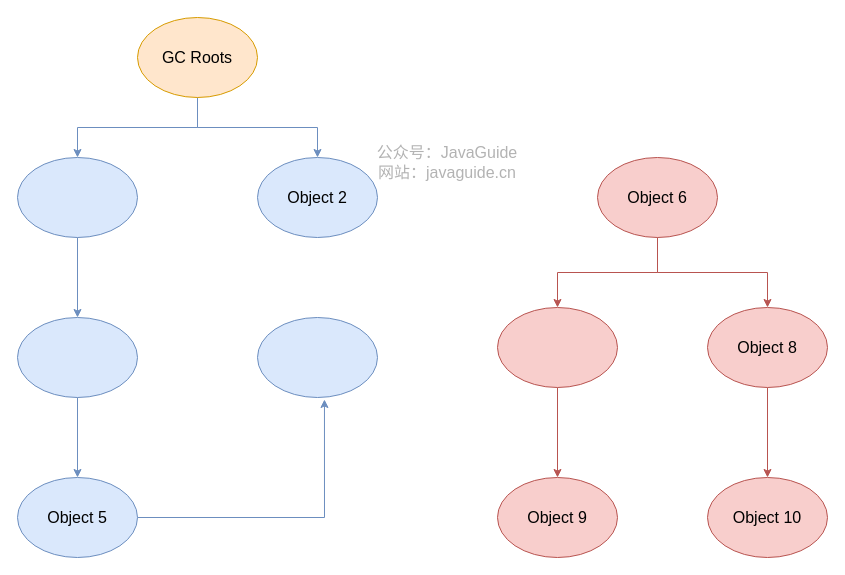
Some shapes in this 845 by 575 pixel diagram are drawn without their labels. The shapes that lost their labels are listed below. From the top down, each one's centre as x and y in pixels, then its label:
pixel 77 197: Object 1
pixel 77 357: Object 3
pixel 317 357: Object 4
pixel 557 347: Object 7
